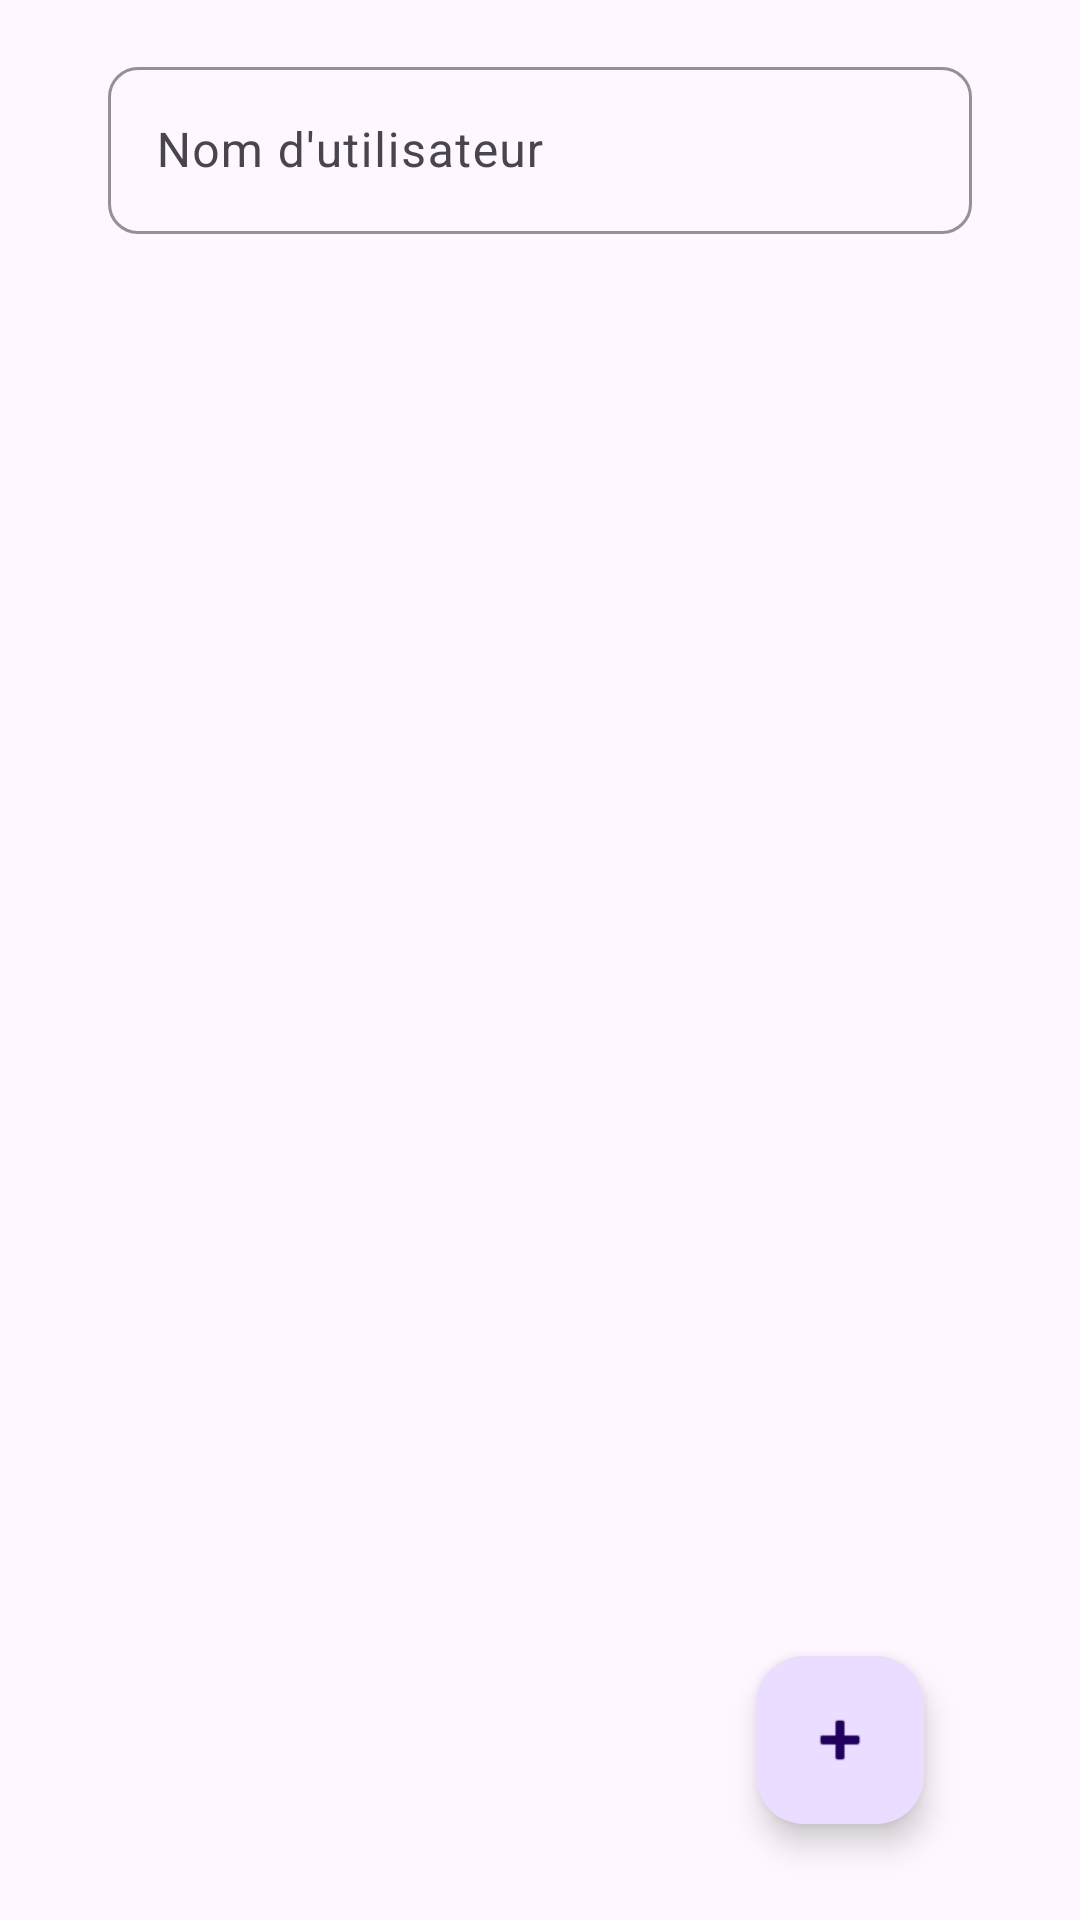

Named icons in this screenshot (1080x1920) and their bounding boxes, box(x1, y1, x2, y2):
Add a patient: box(756, 1656, 924, 1824)
